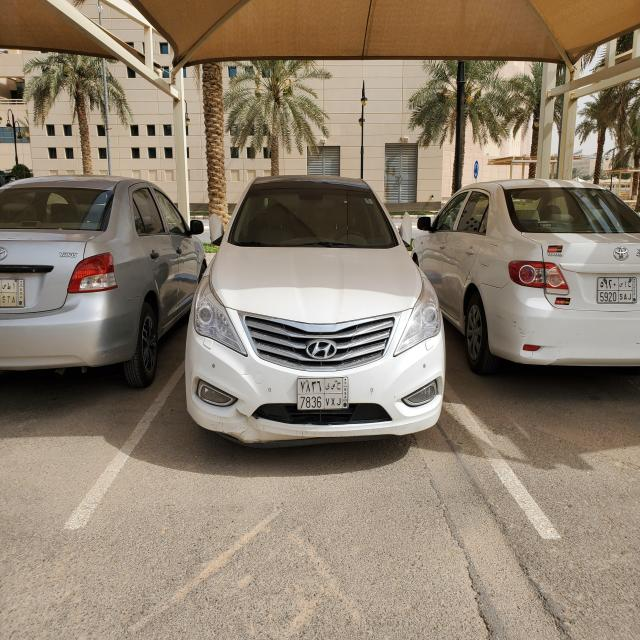license_plate: (296, 378, 348, 410), (597, 276, 637, 304), (0, 280, 26, 310)
